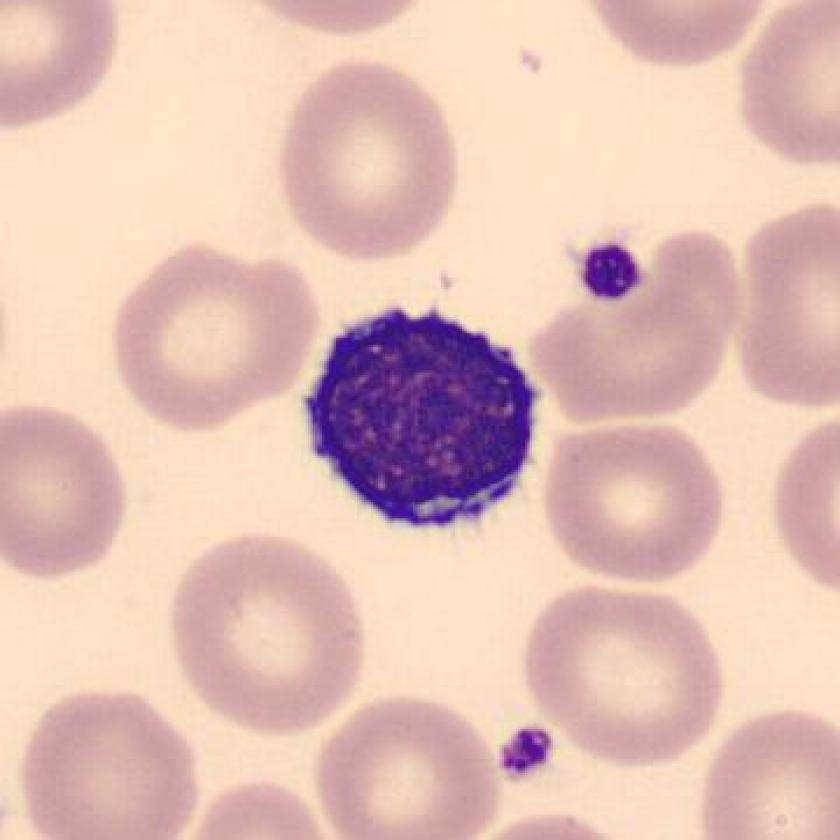lymphocyte: (288, 281, 561, 549)
platelets: (494, 719, 559, 786), (578, 241, 646, 304)
